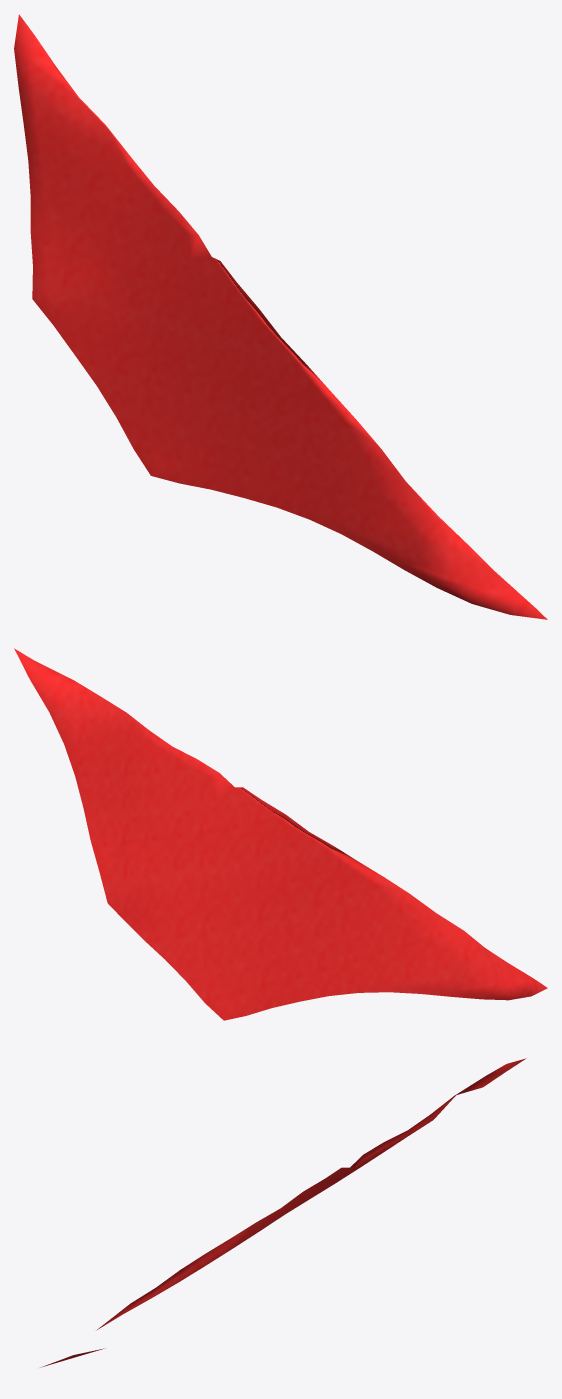
File: Pants_Decor_Pocket_Left_V2.glb
3 views of the same model, one above another, from view 1: azimuth 90°, elevation 25°; view 2: azimuth 150°, elevation 25°; view 3: azimuth 270°, elevation 25° (orthographic).
Parts seen in each view (by area): view 1: Pants_Decor_Pocket_Left.003; view 2: Pants_Decor_Pocket_Left.003; view 3: Pants_Decor_Pocket_Left.003.
Boxes of the visible parts, <box> form: Pants_Decor_Pocket_Left.003: <box>14,14,547,619</box>; Pants_Decor_Pocket_Left.003: <box>14,648,547,1020</box>; Pants_Decor_Pocket_Left.003: <box>40,1058,526,1367</box>.
Size of the model in its own units: 0.0548 by 0.0878 by 0.0903.
Materials: 1 (1 with a texture image).
